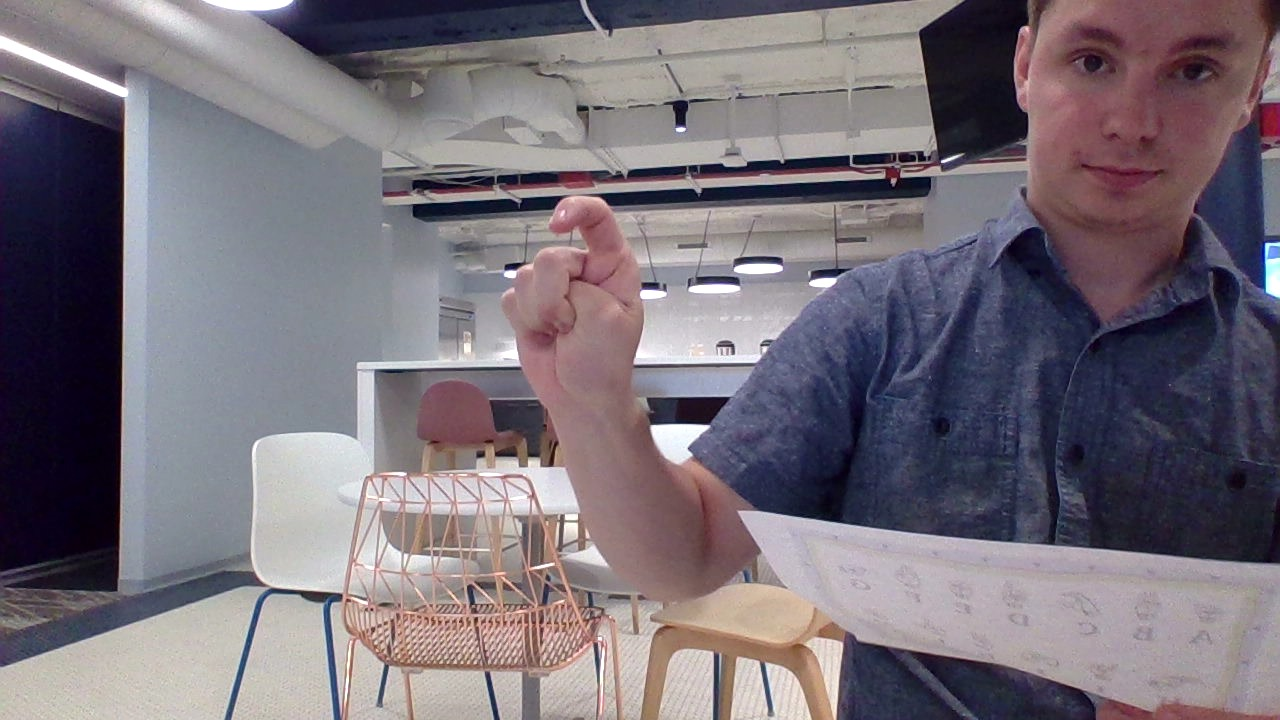x: (481, 179, 664, 434)
